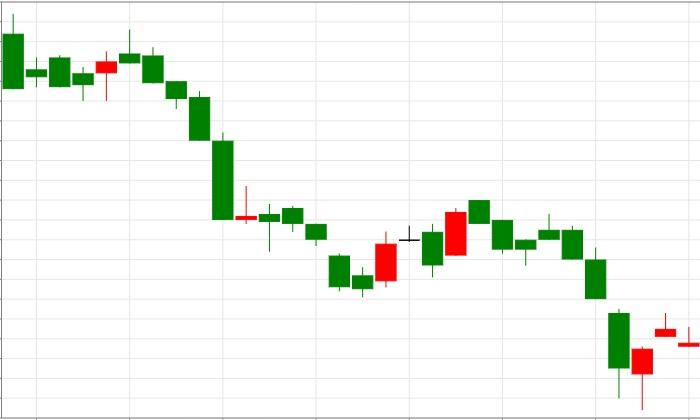hammer_rise: (538, 214, 653, 411)
